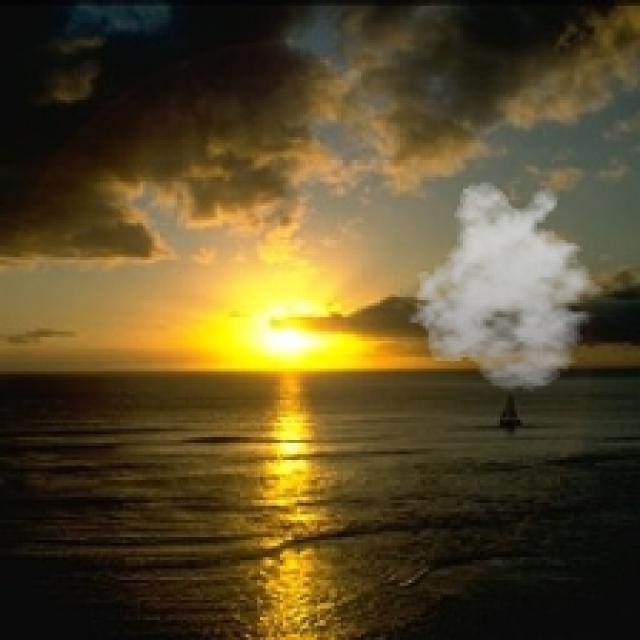smoke: (403, 180, 614, 391)
